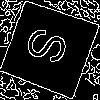S: (24, 24, 78, 71)
